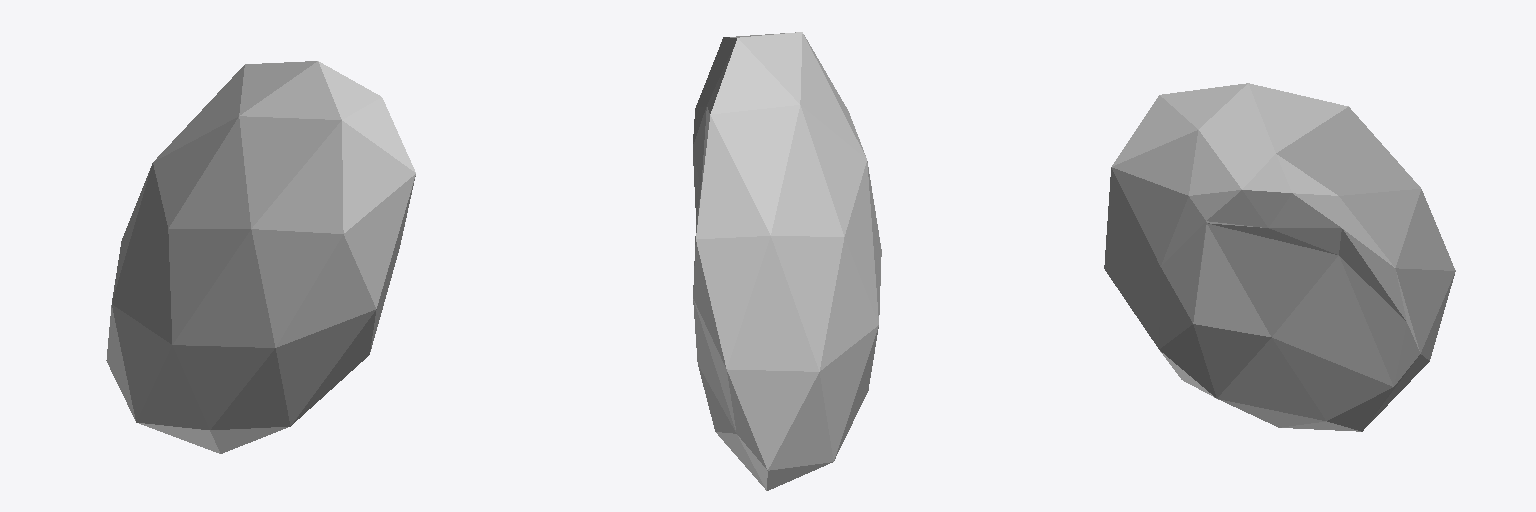
Rendered from rock2.obj.
3 renders of one model, left to right at view 1: azimuth 30°, elevation 25°; view 2: azimuth 150°, elevation 25°; view 3: azimuth 270°, elevation 25°, orthographic.
Visible parts, largest first — view 1: Rock2; view 2: Rock2; view 3: Rock2.
Boxes of the visible parts, box(x1,y1,x2,y2) form: Rock2: box(106, 61, 415, 453); Rock2: box(693, 32, 881, 490); Rock2: box(1104, 83, 1455, 431).
Bounding box in the file's own units: 0.4511 × 0.8598 × 0.701.